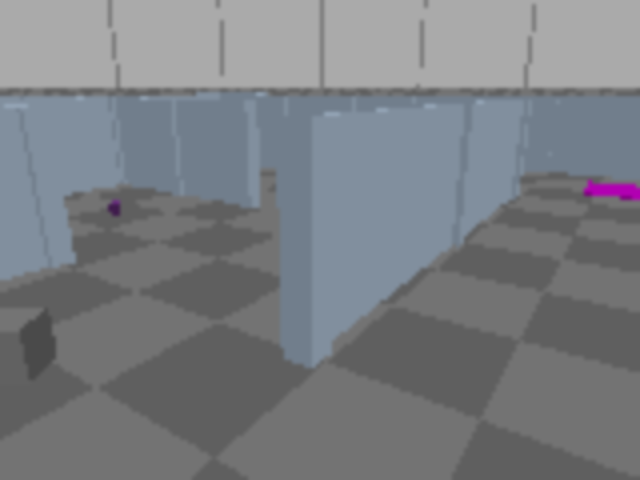goal_zone: (582, 182, 638, 203)
obstacle: (0, 306, 57, 387)
puck: (104, 199, 124, 217)
